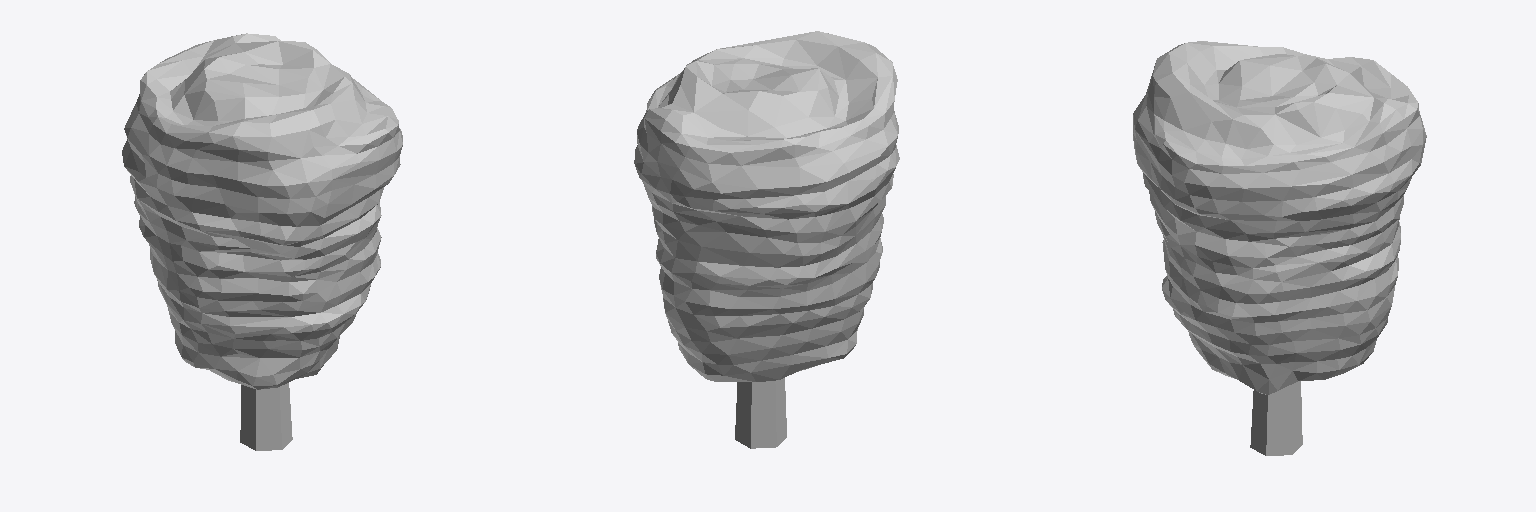
File: fabulous_tree_001.obj
The picture shows the model from 3 angles: view 1: azimuth 30°, elevation 25°; view 2: azimuth 150°, elevation 25°; view 3: azimuth 270°, elevation 25°; orthographic projection.
Visible parts, largest first — view 1: fabulous_tree_001; view 2: fabulous_tree_001; view 3: fabulous_tree_001.
Part boxes in pixels (left/top/right/bottom): fabulous_tree_001: left=122, top=33, right=402, bottom=450; fabulous_tree_001: left=634, top=31, right=899, bottom=448; fabulous_tree_001: left=1133, top=41, right=1426, bottom=455.
Bounding box in the file's own units: 3.47 × 5.37 × 3.84.